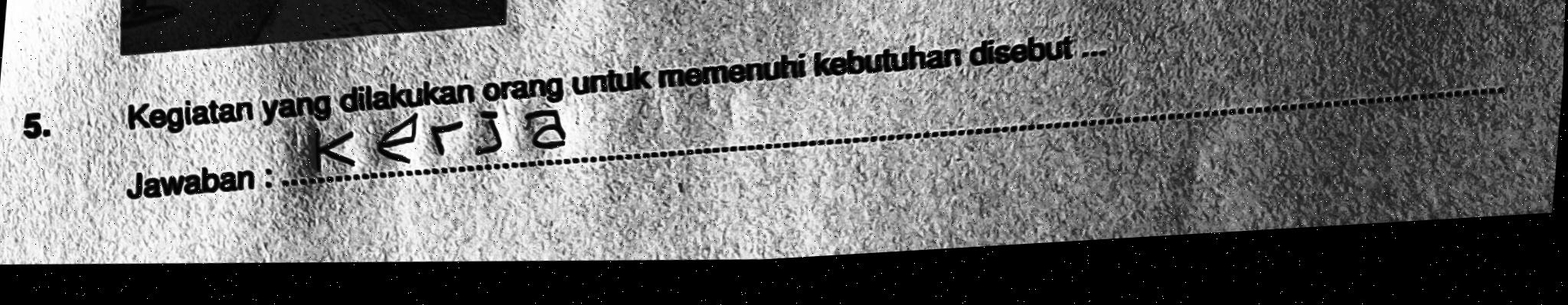jawaban: (309, 99, 577, 180)
